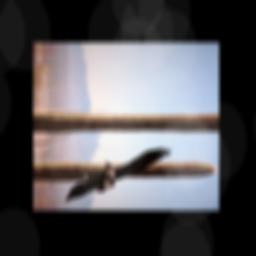Crow: (60, 146, 175, 202)
